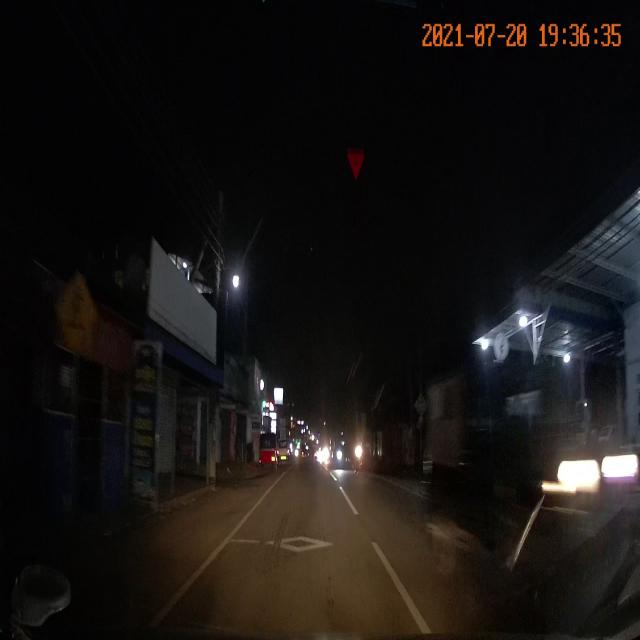diamond: (207, 519, 413, 597)
